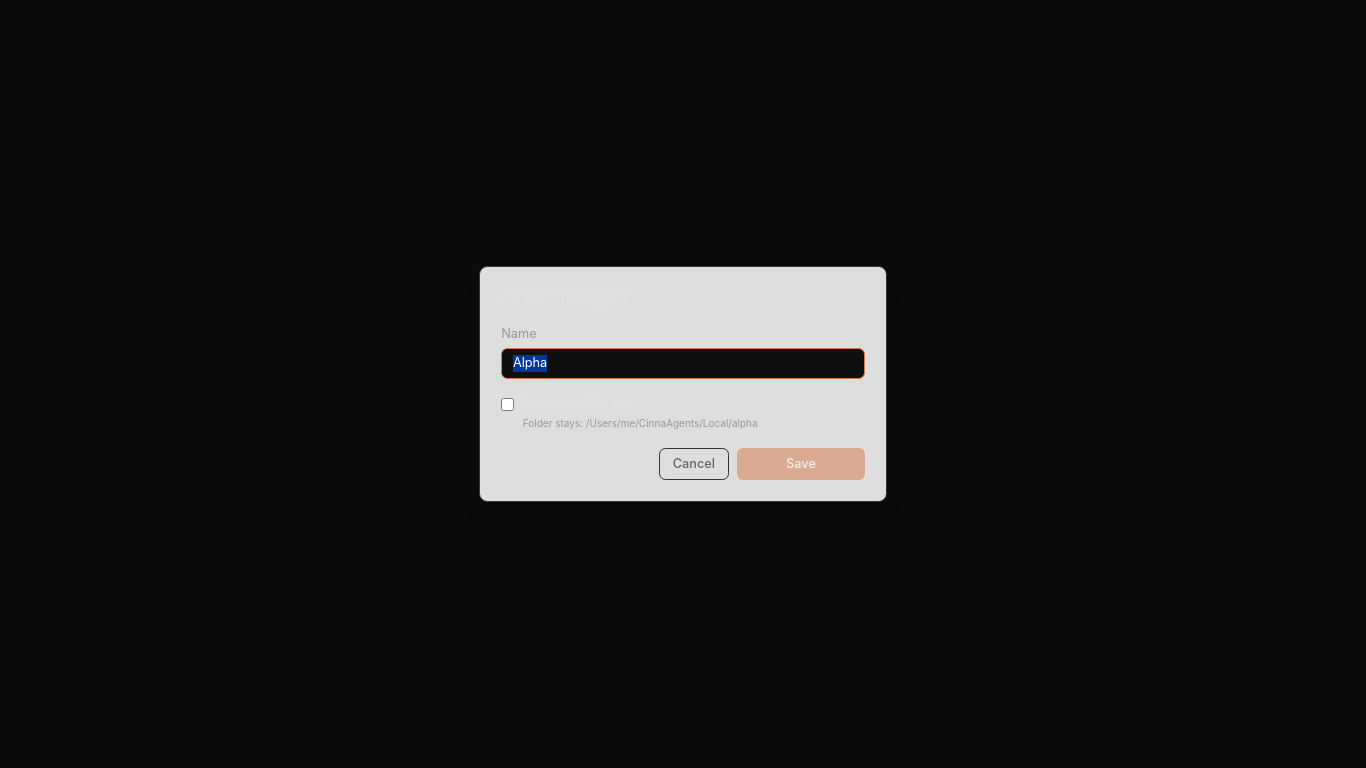
it: RenameAgentDialog › explains a mid-turn refusal and stays open
Replace the text in the field with "Invoice watcher" at (683, 363), box [501,348,865,379]
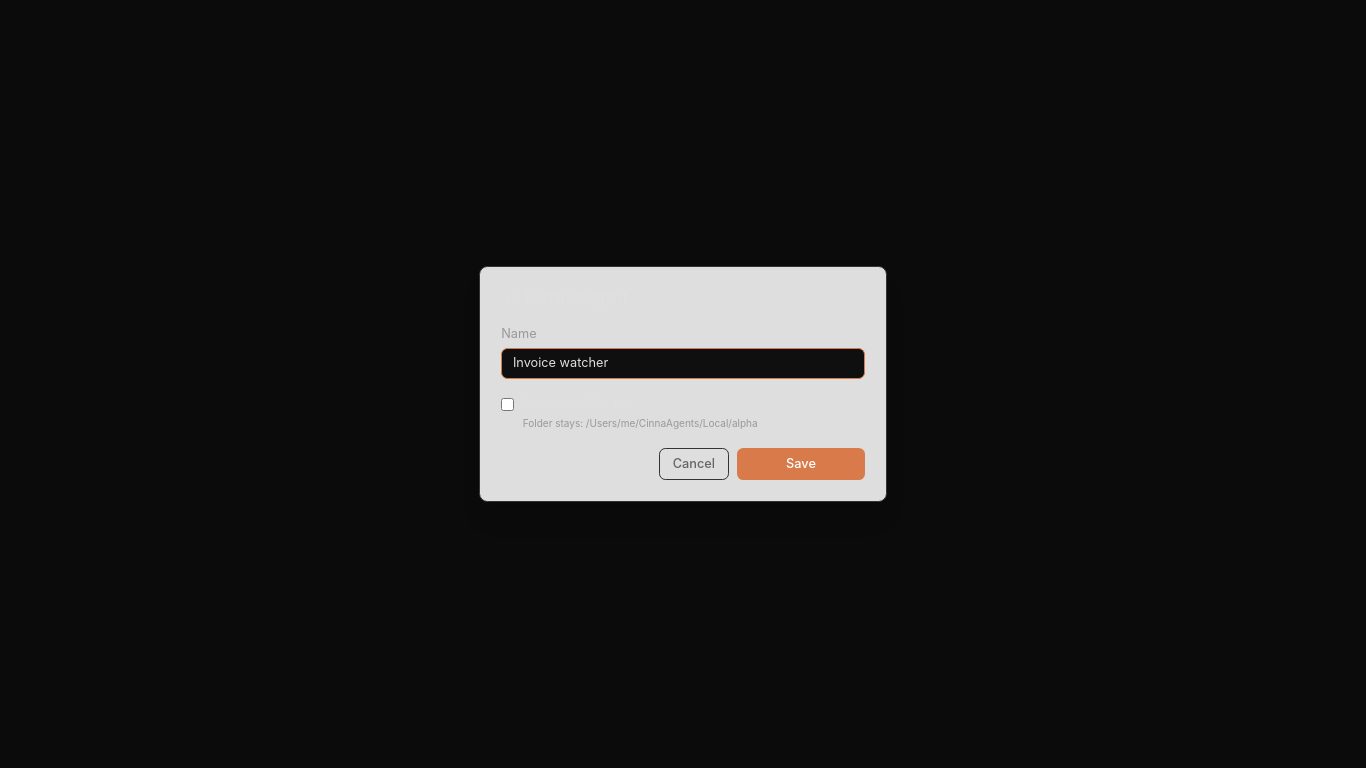
Click the button "Save" at (801, 464), box [737,448,865,480]
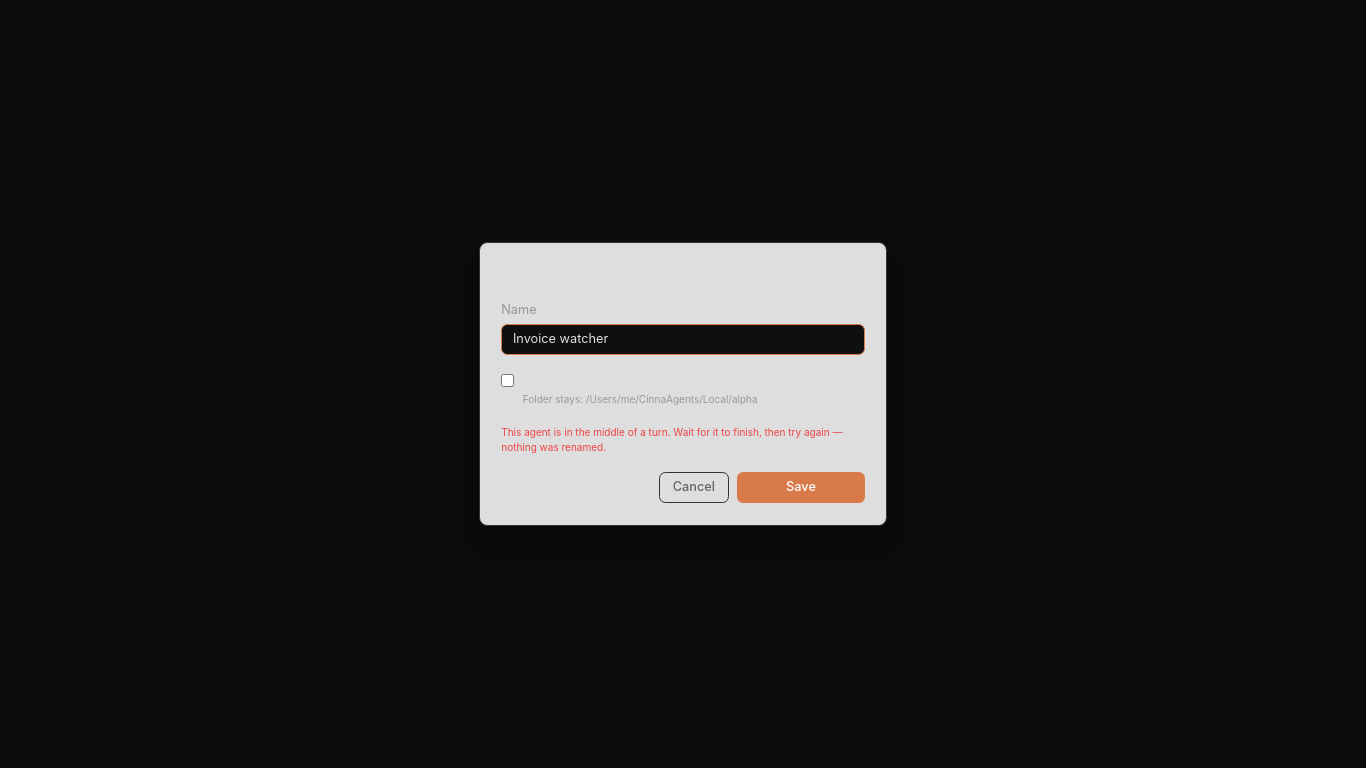
Expected: the message shows "This agent is in the middle of a turn. Wait for it to finish, then try again — nothing was renamed.", [501,426,842,453]
